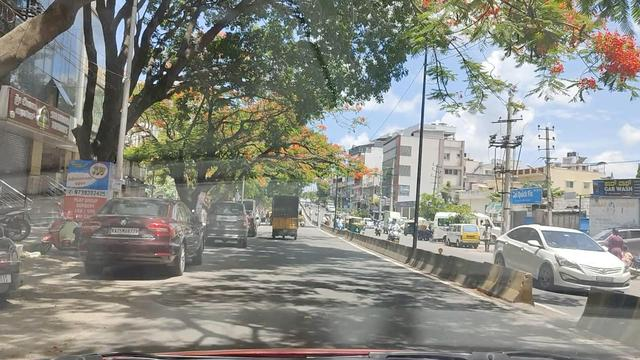HMV: (267, 196, 303, 239)
LMV: (77, 200, 184, 276)
